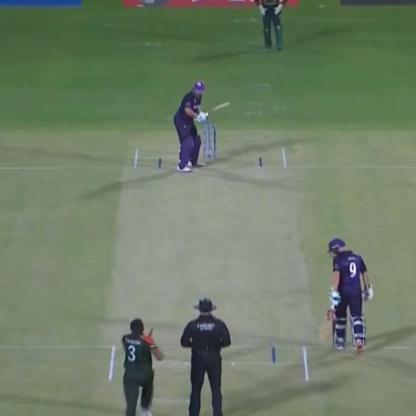bat: (312, 296, 341, 349), (202, 95, 242, 118)
pitch: (100, 141, 322, 388)
